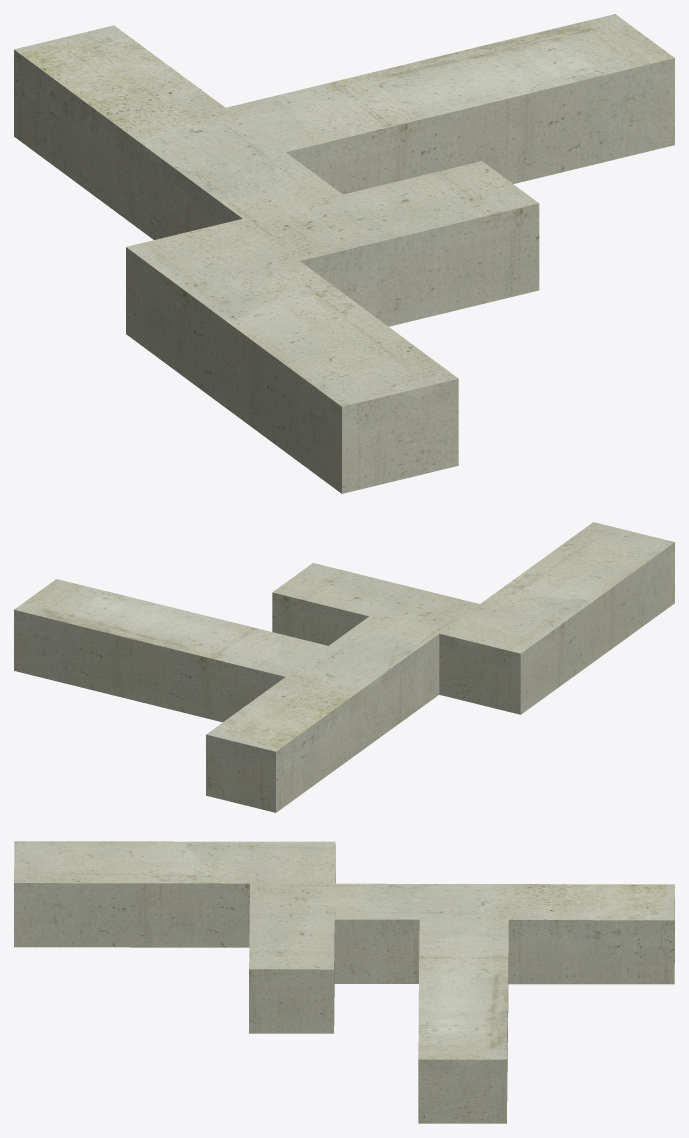
The model's file is reception hallway b.fbx.
3 renders of one model, top to bottom at view 1: azimuth 30°, elevation 25°; view 2: azimuth 150°, elevation 25°; view 3: azimuth 270°, elevation 25°, orthographic. The views are drawn at different scales.
Parts seen in each view (by area): view 1: hallway b; view 2: hallway b; view 3: hallway b.
Boxes of the visible parts, left/top/right/bottom form: hallway b: left=14, top=14, right=674, bottom=493; hallway b: left=14, top=522, right=674, bottom=812; hallway b: left=14, top=841, right=674, bottom=1123.
Bounding box in the file's own units: 4380 × 5600 × 600.
